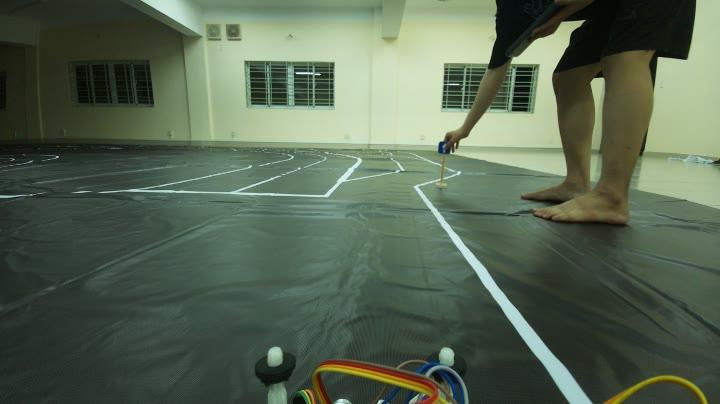onewayroad: (436, 136, 449, 154)
